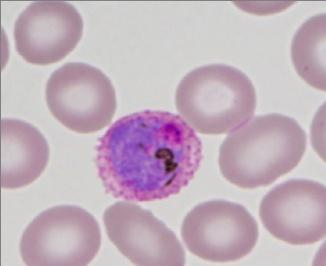Infected: (98, 110, 202, 201)
Uninfected: (218, 113, 305, 188), (176, 64, 255, 134), (103, 202, 186, 266), (20, 204, 100, 266), (46, 63, 116, 132), (184, 200, 258, 262), (15, 0, 84, 65), (260, 179, 326, 246), (1, 118, 49, 190)
